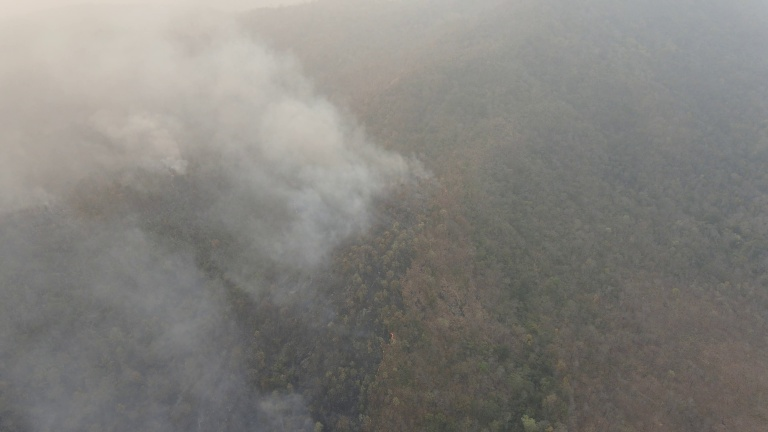smoke: (1, 1, 433, 429)
